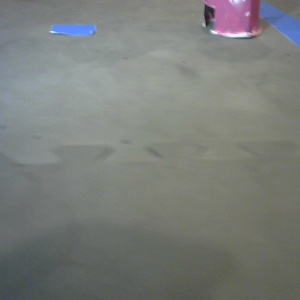right: (199, 1, 264, 41)
